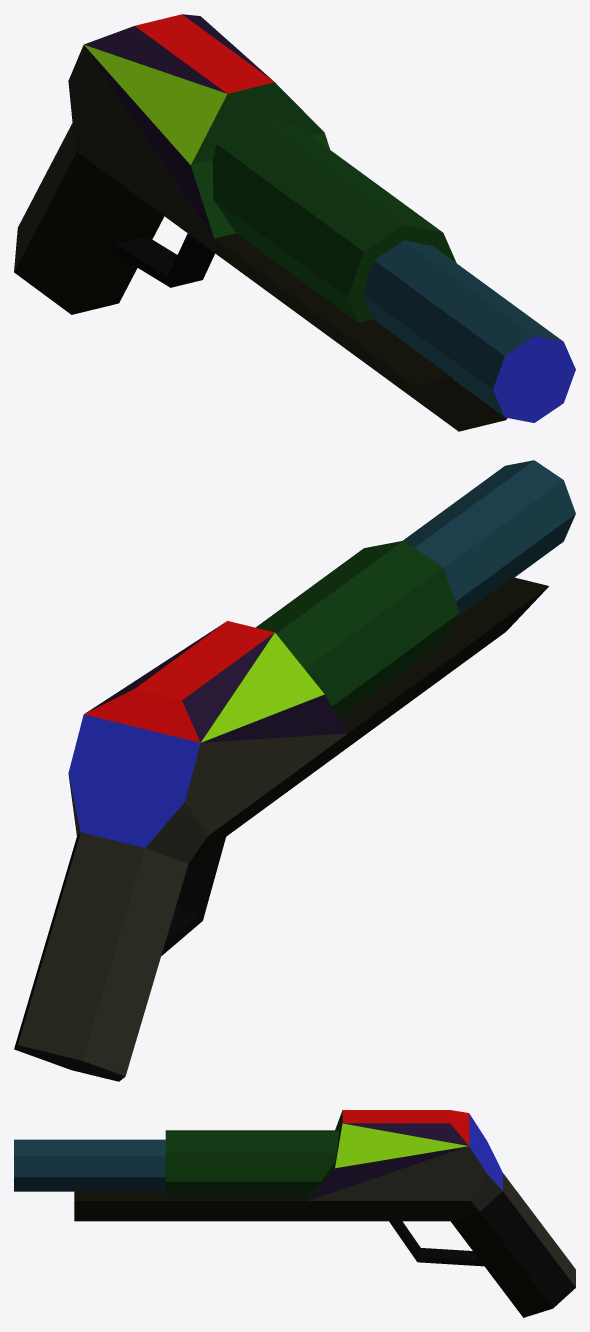
Rendered from pistol2.obj.
The picture shows the model from 3 angles, top to bottom: view 1: azimuth 30°, elevation 25°; view 2: azimuth 150°, elevation 25°; view 3: azimuth 270°, elevation 25°; orthographic projection. The views are drawn at different scales.
Visible parts, largest first — view 1: Cylinder; view 2: Cylinder; view 3: Cylinder.
Boxes of the visible parts, x1,y1,x2,y2 form: Cylinder: (14,14,575,431); Cylinder: (14,460,575,1081); Cylinder: (14,1110,575,1317).
Bounding box in the file's own units: 0.032 × 0.0765 × 0.2003.
